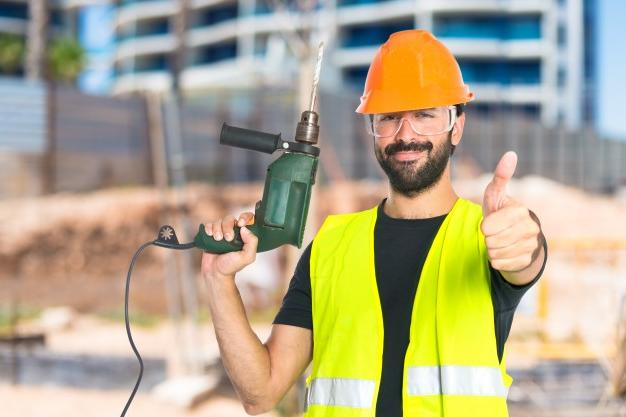thumbsup: (480, 151, 540, 272)
